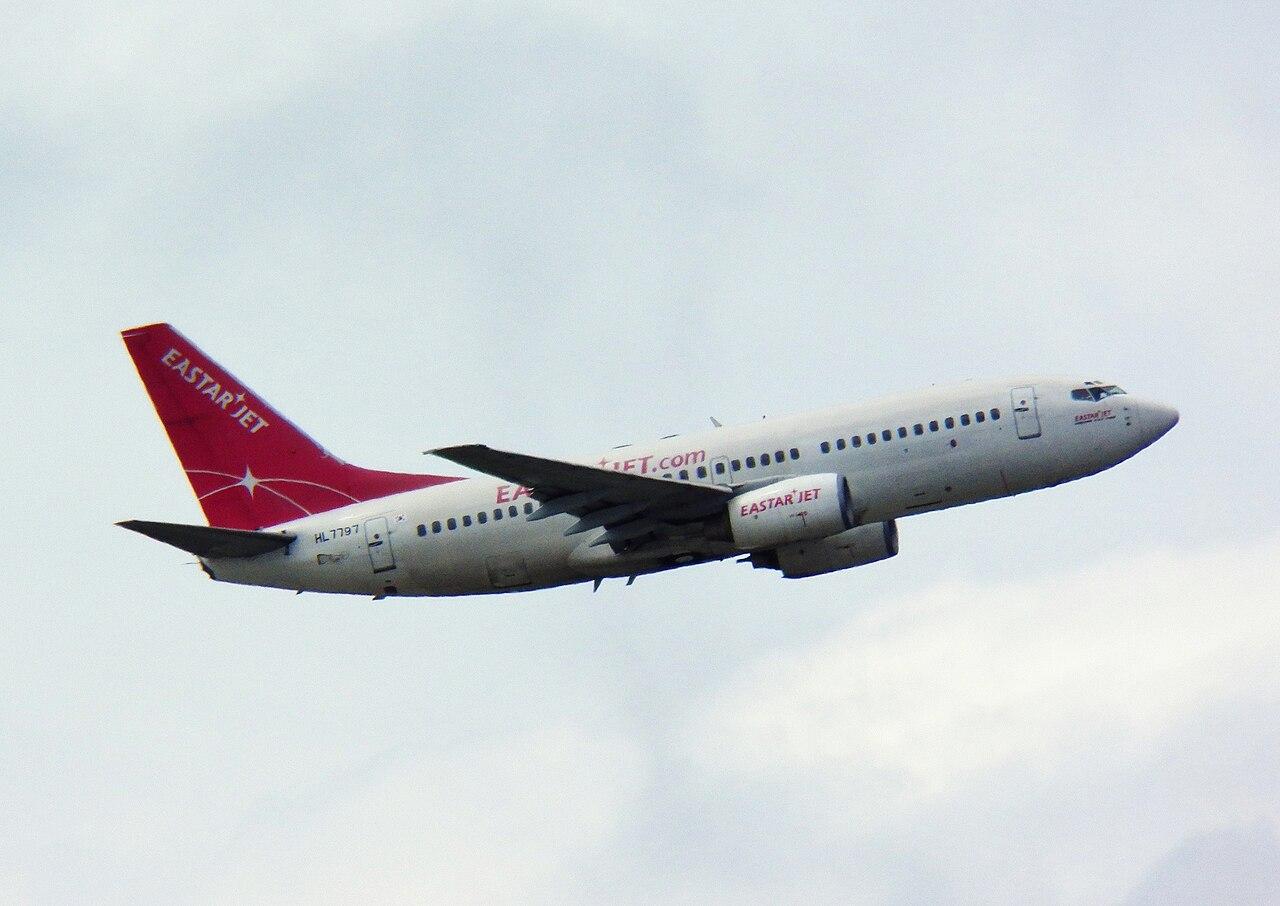aircraft: (113, 311, 1180, 594)
